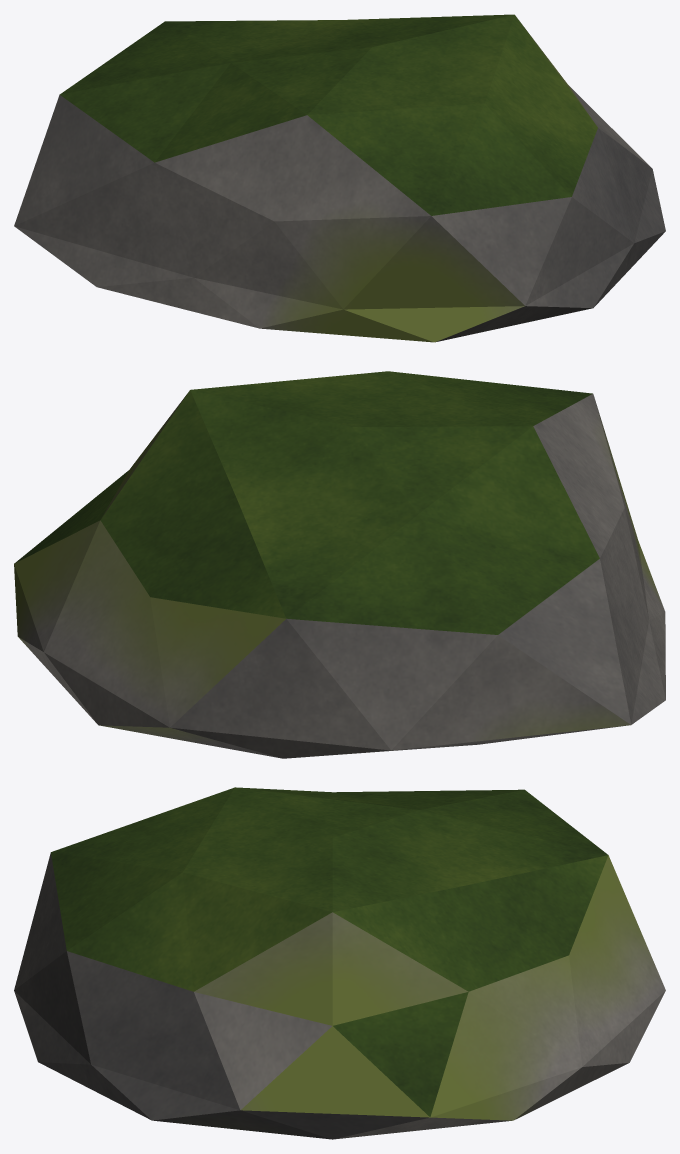
File: rock_1.glb
The picture shows the model from 3 angles, top to bottom: view 1: azimuth 30°, elevation 25°; view 2: azimuth 150°, elevation 25°; view 3: azimuth 270°, elevation 25°; orthographic projection. The views are drawn at different scales.
Visible parts, largest first — view 1: rock_1; view 2: rock_1; view 3: rock_1.
Boxes of the visible parts, left/top/right/bottom form: rock_1: left=14, top=14, right=665, bottom=342; rock_1: left=14, top=371, right=665, bottom=758; rock_1: left=14, top=787, right=665, bottom=1139.
Size of the model in its own units: 1.68 by 0.5722 by 1.65.
Materials: 2 (2 with a texture image).
